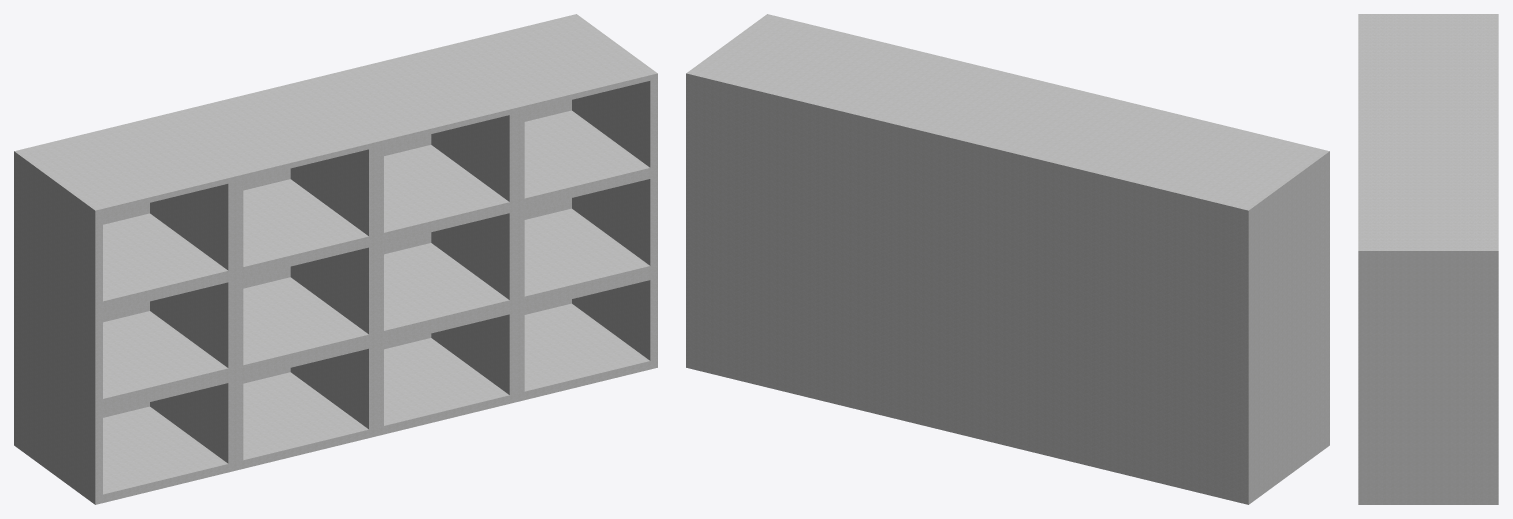
The picture shows the model from 3 angles, left to right: view 1: azimuth 30°, elevation 25°; view 2: azimuth 150°, elevation 25°; view 3: azimuth 270°, elevation 25°; orthographic projection. The views are drawn at different scales.
Parts seen in each view (by area): view 1: SM_鞋柜001; view 2: SM_鞋柜001; view 3: SM_鞋柜001.
Boxes of the visible parts, x1,y1,x2,y2 form: SM_鞋柜001: [14, 14, 657, 504]; SM_鞋柜001: [686, 14, 1329, 504]; SM_鞋柜001: [1358, 14, 1498, 504].
Size of the model in its own units: 120 by 60 by 30.
